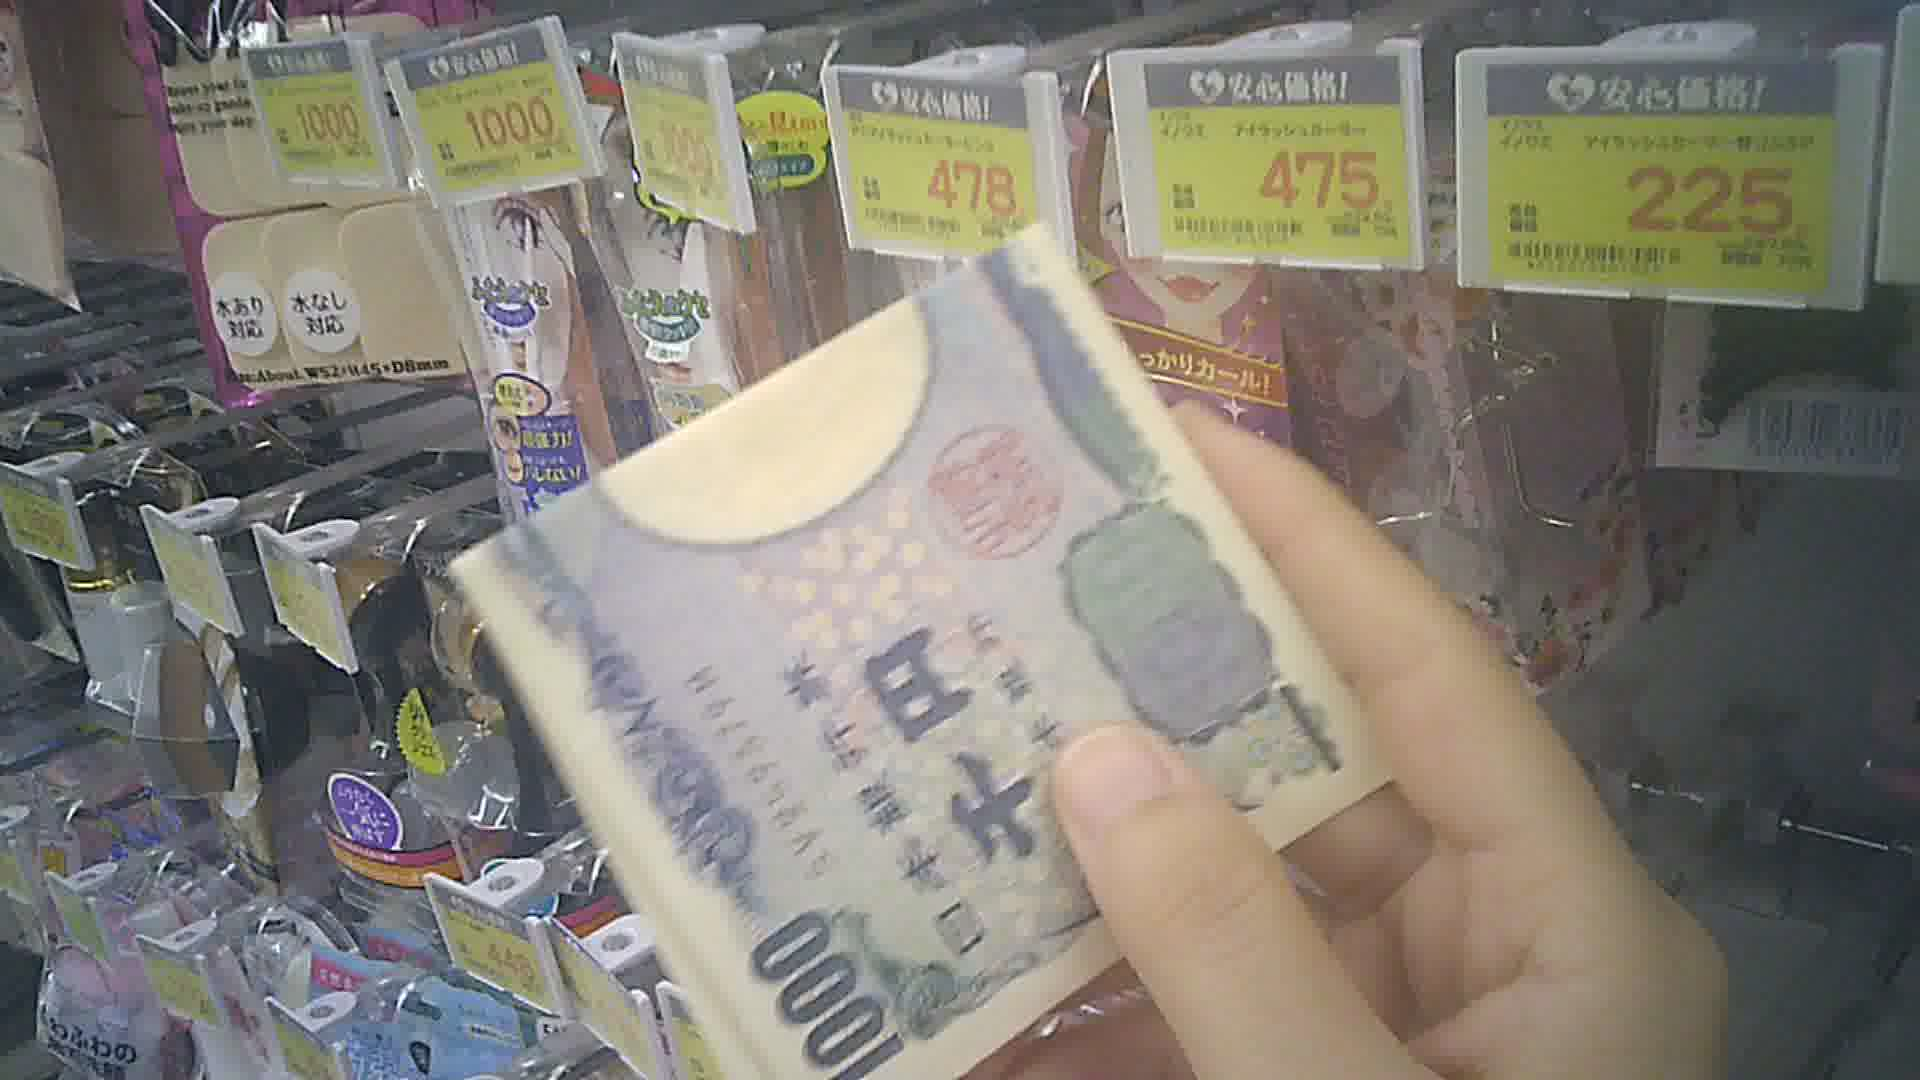1,000 Yen: (452, 233, 1383, 1069)
